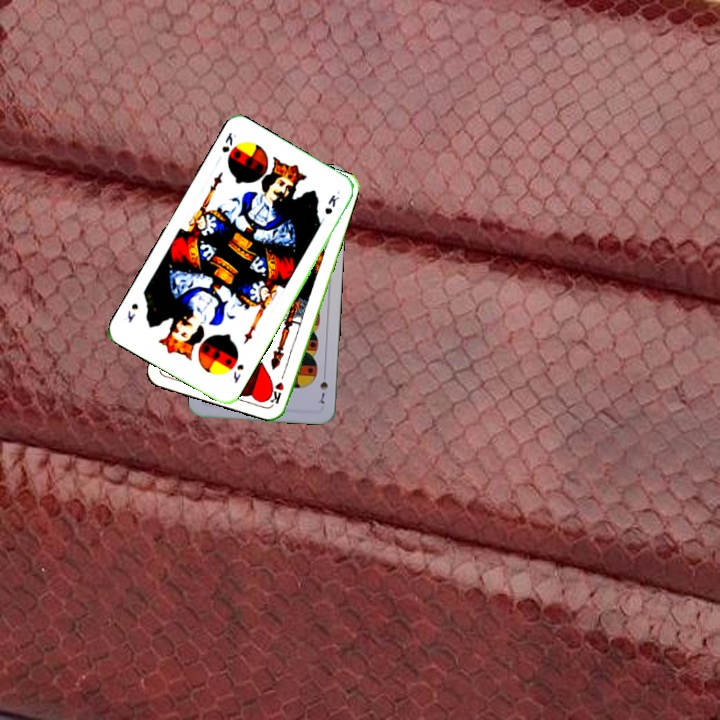HK: (267, 366, 288, 406)
S7: (316, 368, 330, 406)
SK: (217, 128, 239, 155), (229, 360, 247, 386)
